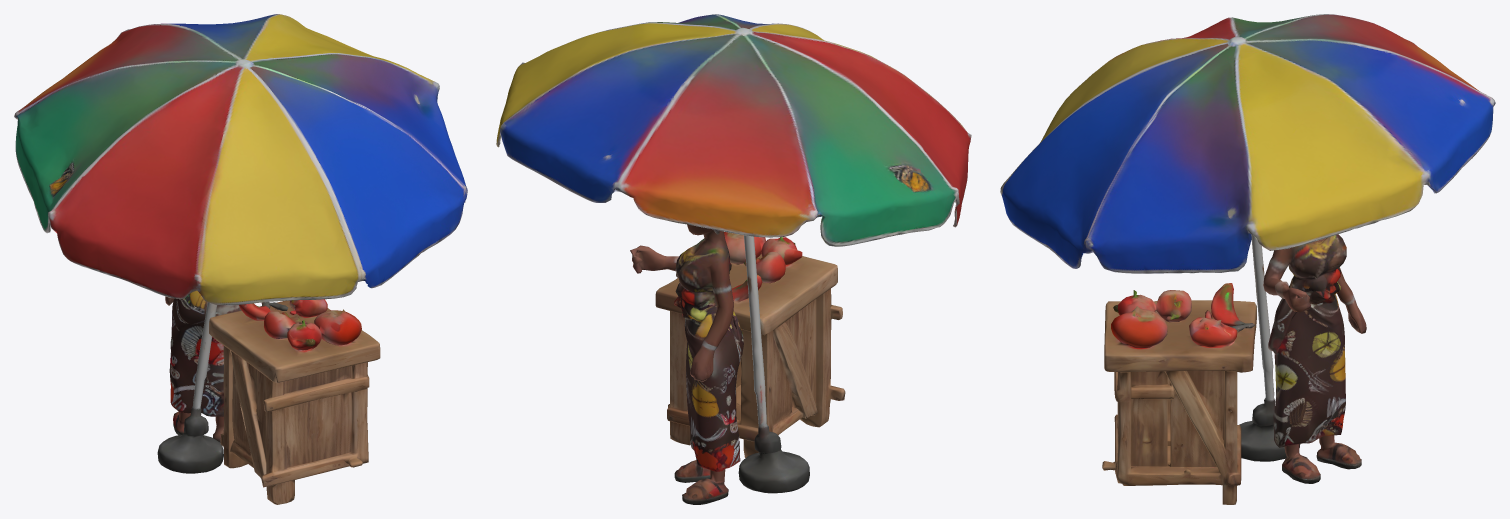
The model's file is stall.glb.
3 renders of one model, left to right at view 1: azimuth 30°, elevation 25°; view 2: azimuth 150°, elevation 25°; view 3: azimuth 270°, elevation 25°, orthographic. The views are drawn at different scales.
Visible parts, largest first — view 1: tripo_node_a422bdbb-d02d-4997-9a93-4500a2f30677; view 2: tripo_node_a422bdbb-d02d-4997-9a93-4500a2f30677; view 3: tripo_node_a422bdbb-d02d-4997-9a93-4500a2f30677.
Boxes of the visible parts, x1,y1,x2,y2 form: tripo_node_a422bdbb-d02d-4997-9a93-4500a2f30677: (14,14,467,504); tripo_node_a422bdbb-d02d-4997-9a93-4500a2f30677: (496,14,971,504); tripo_node_a422bdbb-d02d-4997-9a93-4500a2f30677: (1000,14,1495,504).
Size of the model in its own units: 0.5246 by 0.5 by 0.521.
1 material, 1 textured.
